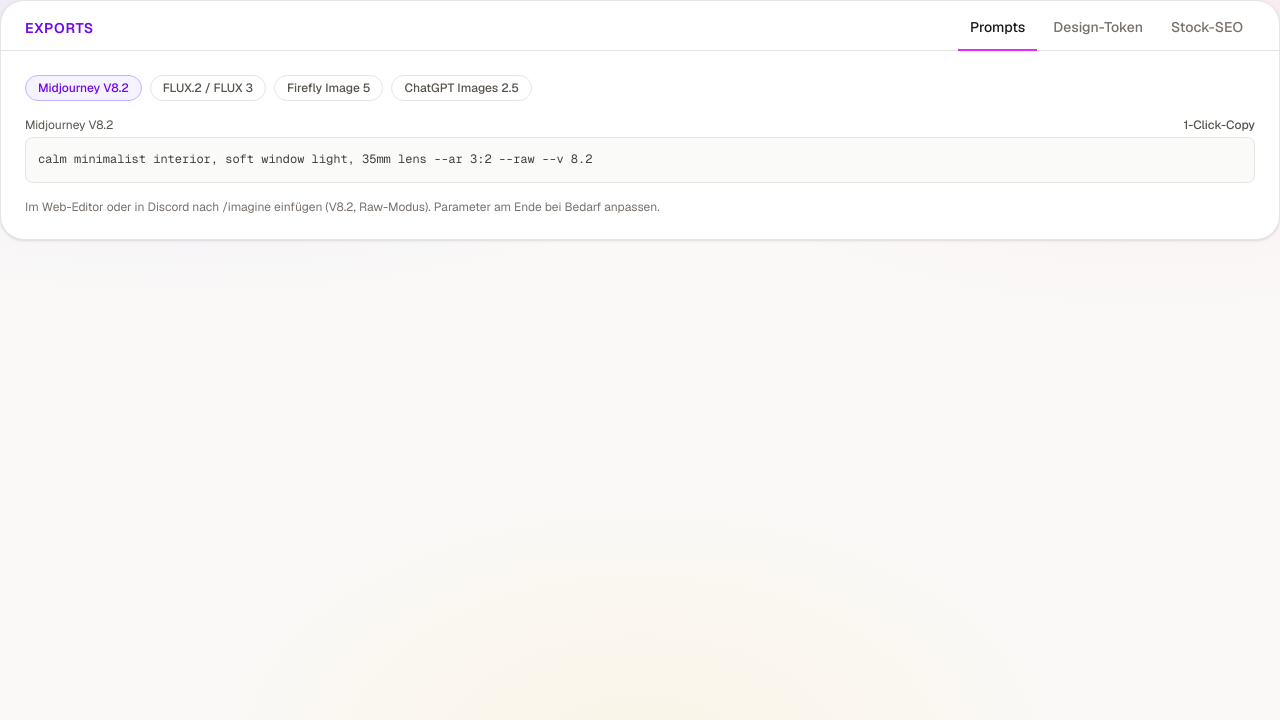
Test: ExportTabs › erzeugt Tailwind-Tokens und schaltet zwischen v4 und v3 um
The width and height of the screenshot is (1280, 720).
Click the tab "Design-Token". click: (1098, 34)
box: x1=1041 y1=17 x2=1155 y2=51
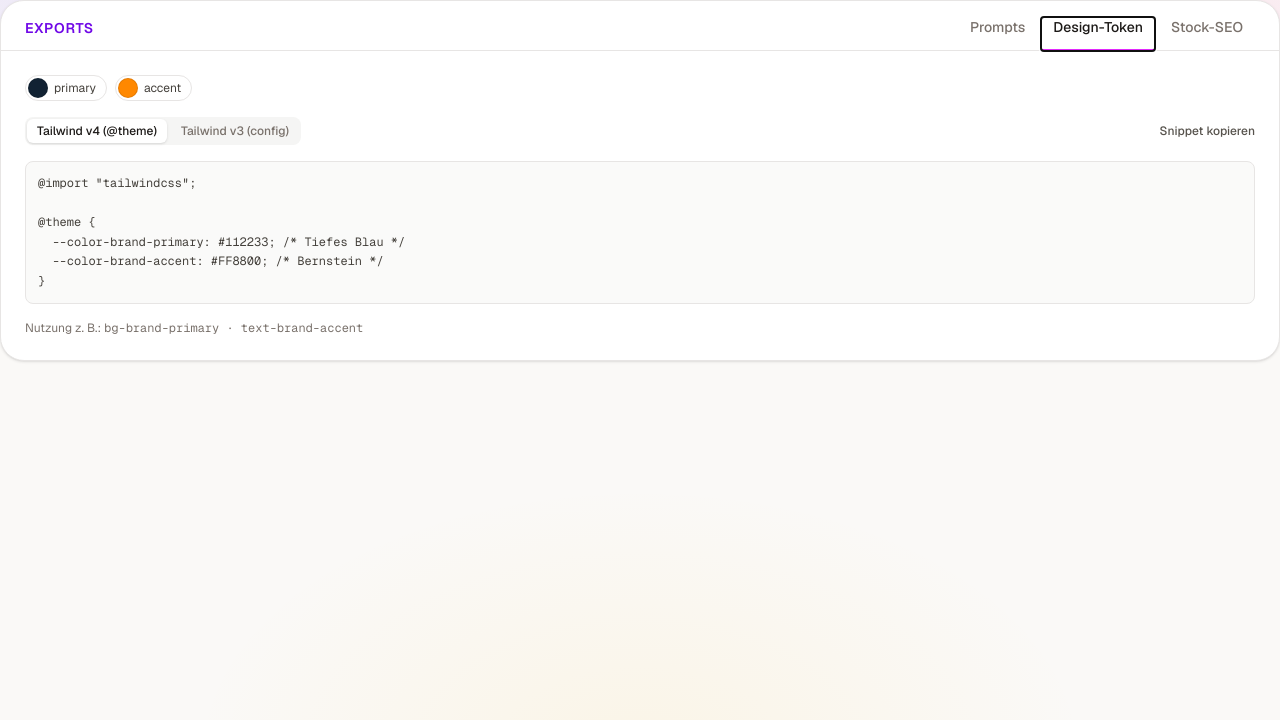
Expected: the text "--color-brand-primary: #112233" is shown, x1=38 y1=175 x2=405 y2=288
Click the radio button labelled "Tailwind v3 (config)". click: (235, 131)
box: x1=171 y1=119 x2=299 y2=143
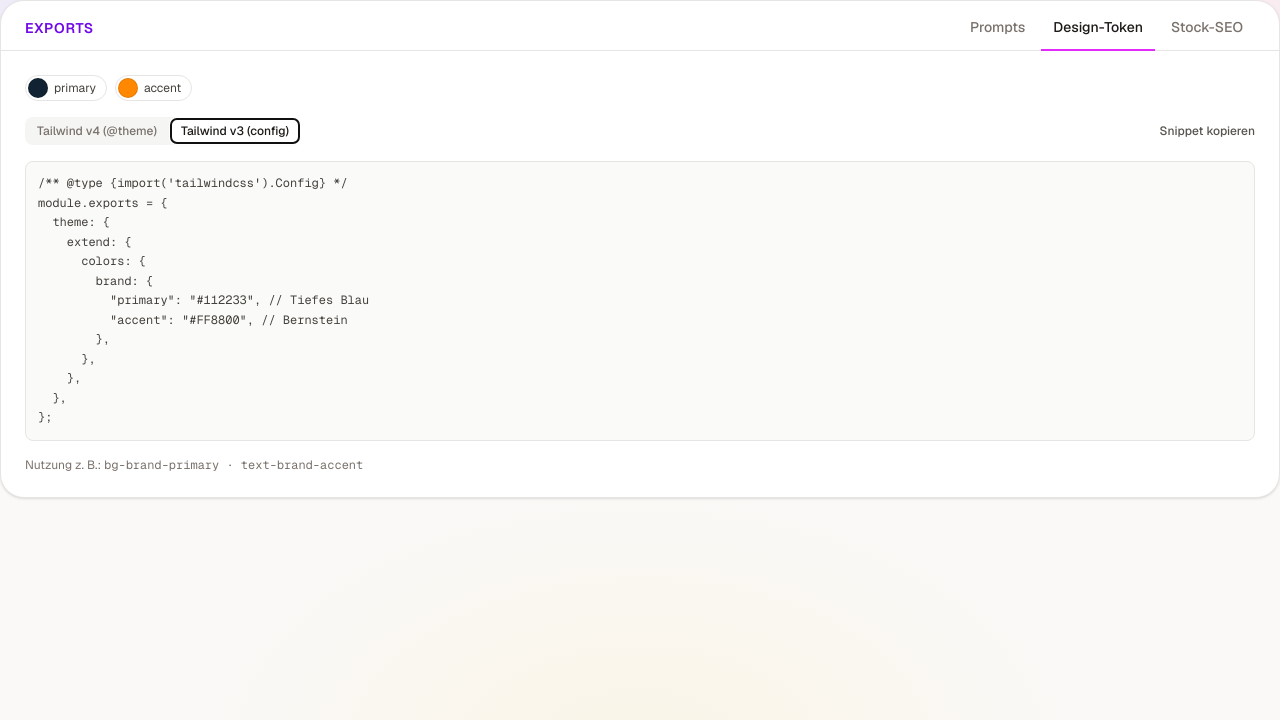
Expected: the text "theme: {" is shown, x1=38 y1=175 x2=369 y2=425
